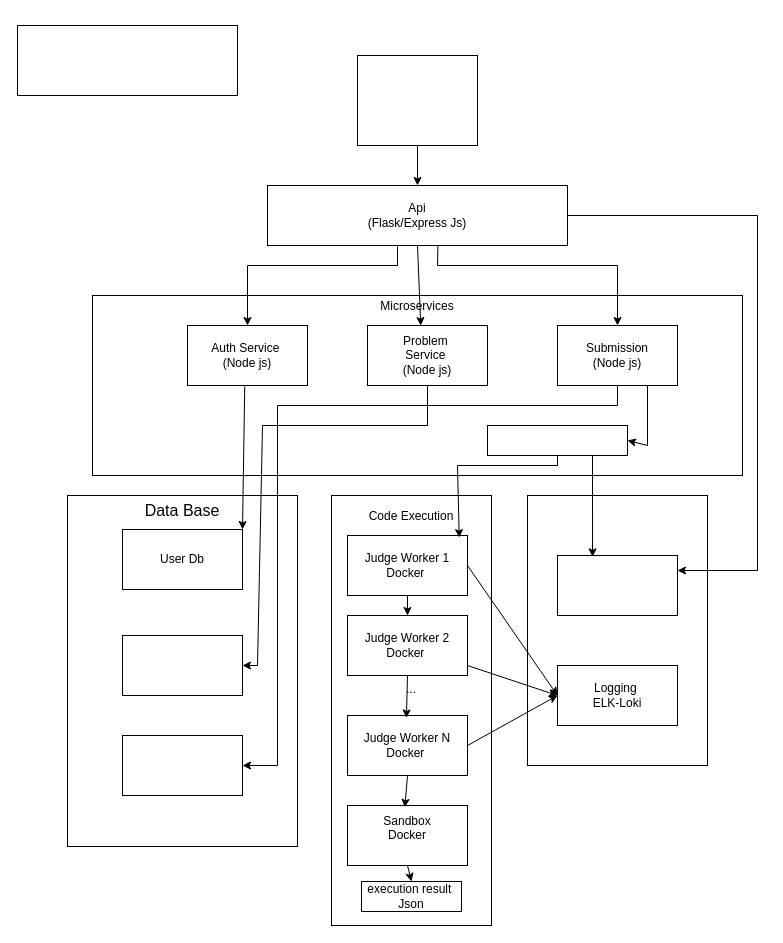
This 783x943 diagram has some shape labels left out. The box of each missing label's shape, as (x1, y1, x2, y2) in pixels:
Client (NextJs): (356, 54, 478, 146)
Execution Queue Redis: (486, 424, 628, 456)
Metrics Prometheus: (556, 554, 678, 616)
Obervability: (526, 494, 708, 766)
Problem Db: (122, 634, 242, 696)
Rce Platform Architecture: (16, 24, 238, 96)
Submission Db: (122, 734, 242, 796)
